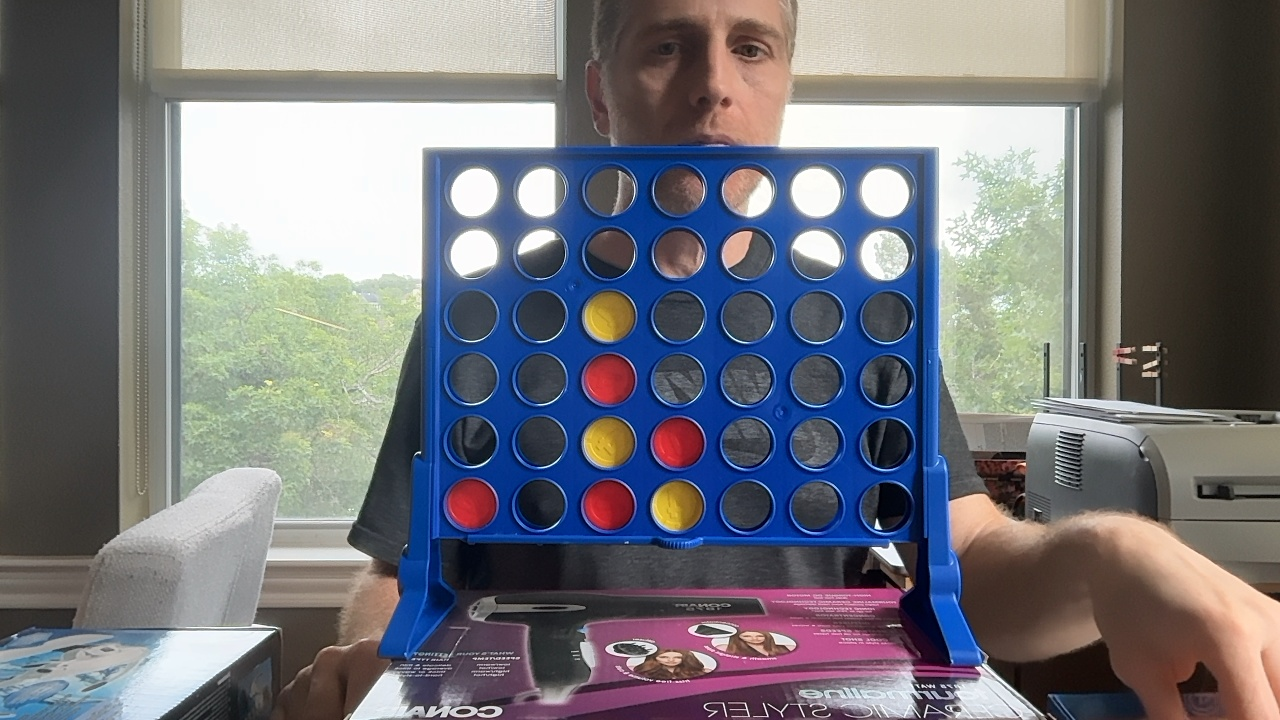red piece: (583, 353, 636, 405), (444, 478, 497, 530), (652, 417, 704, 469), (582, 480, 635, 531)
yellow piece: (582, 416, 635, 469), (583, 290, 635, 342), (651, 480, 704, 531)
